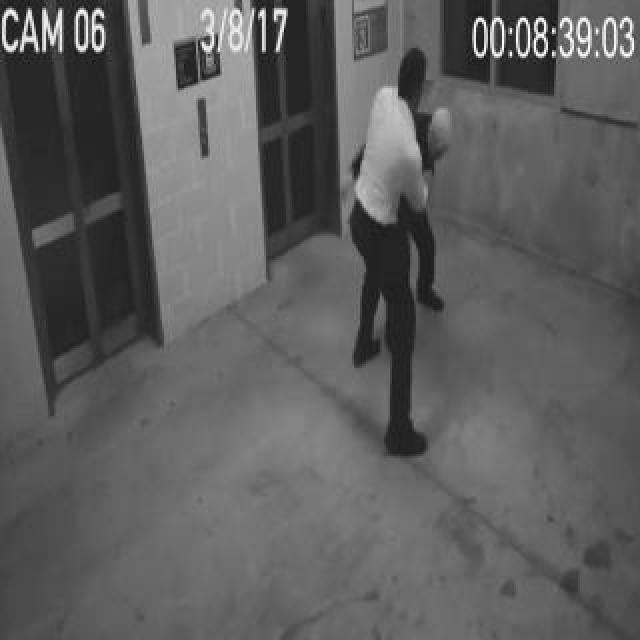fight: (328, 21, 506, 499)
